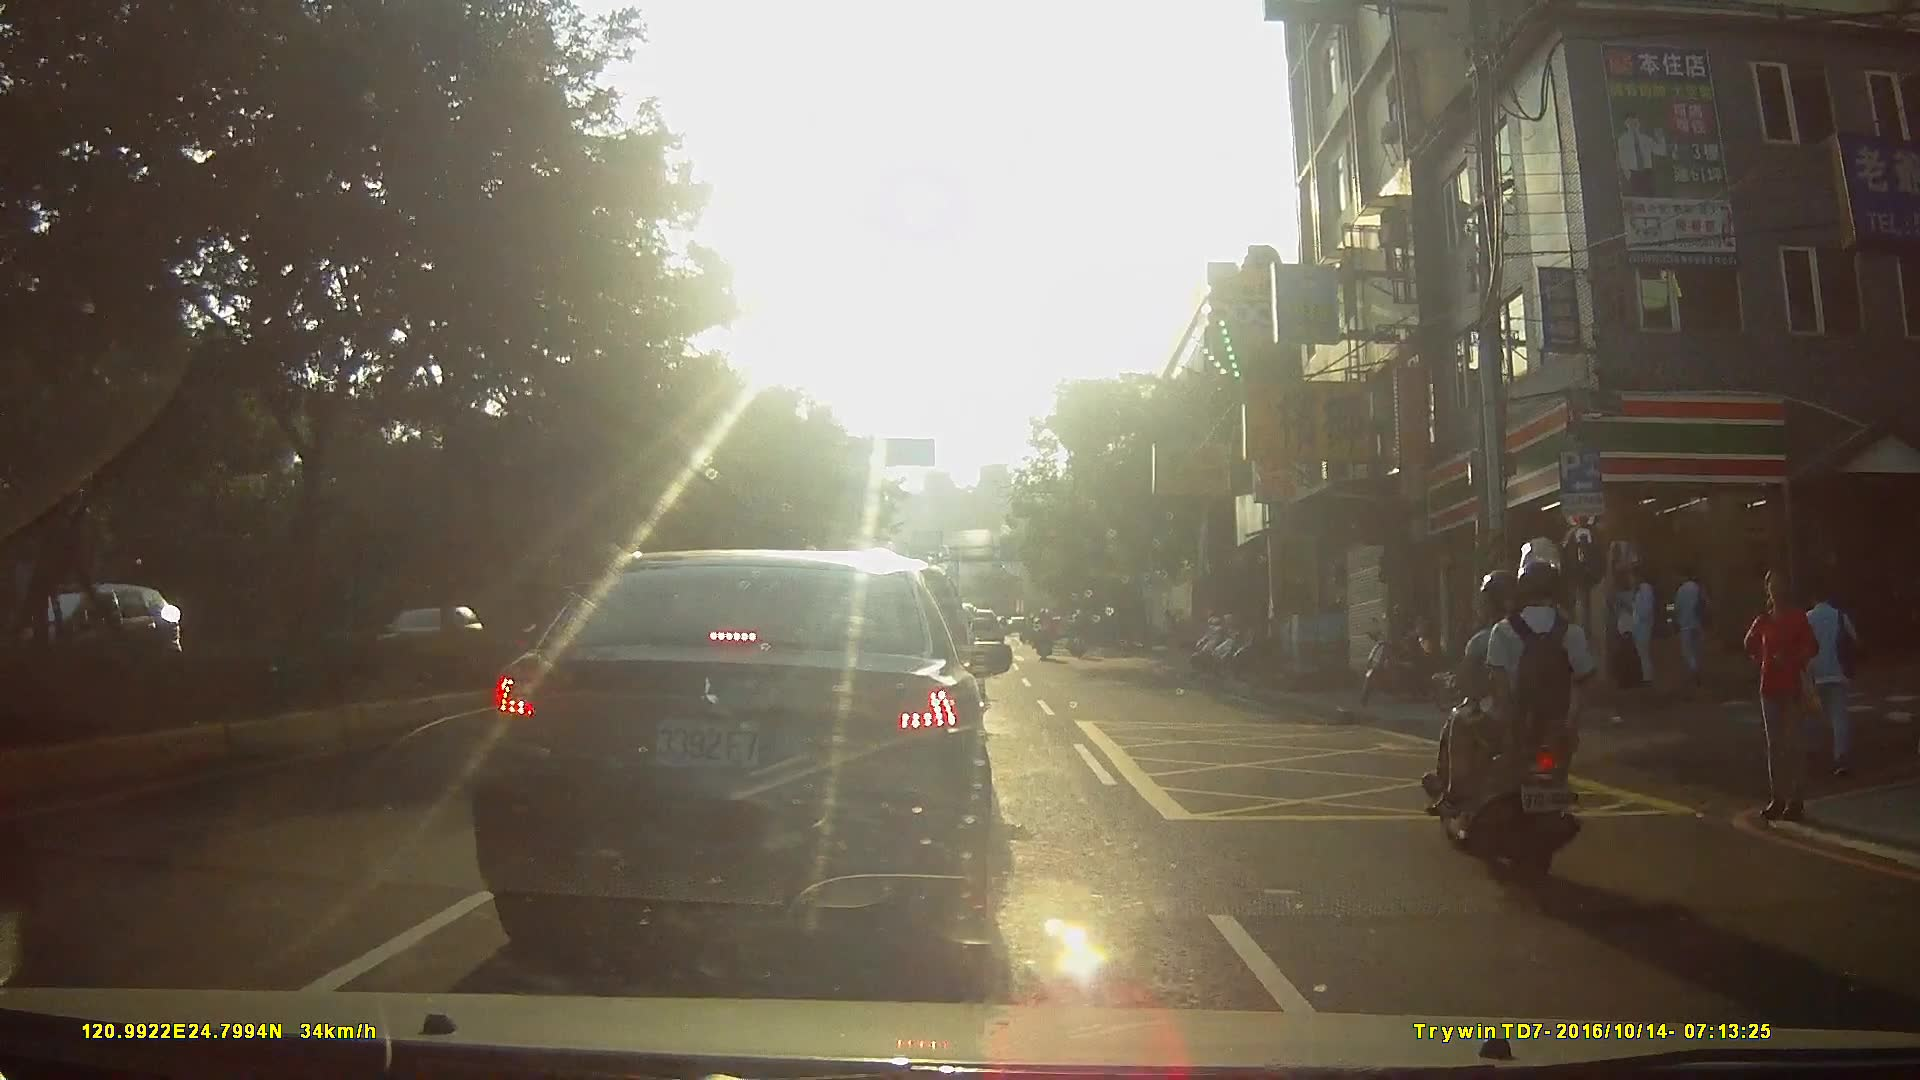pedestrian: (1745, 567, 1820, 820), (1675, 565, 1718, 680), (1607, 567, 1634, 697)
rider: (1430, 534, 1606, 887), (1066, 612, 1089, 662), (1036, 606, 1056, 664)
vehicle: (465, 537, 1043, 968), (34, 580, 189, 688)
